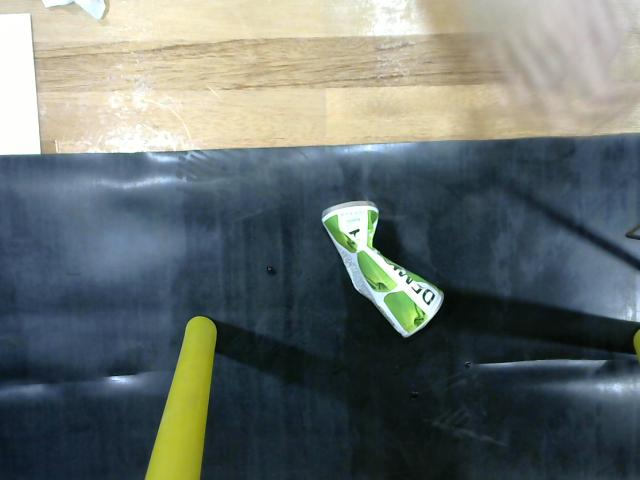can: (319, 196, 452, 343)
